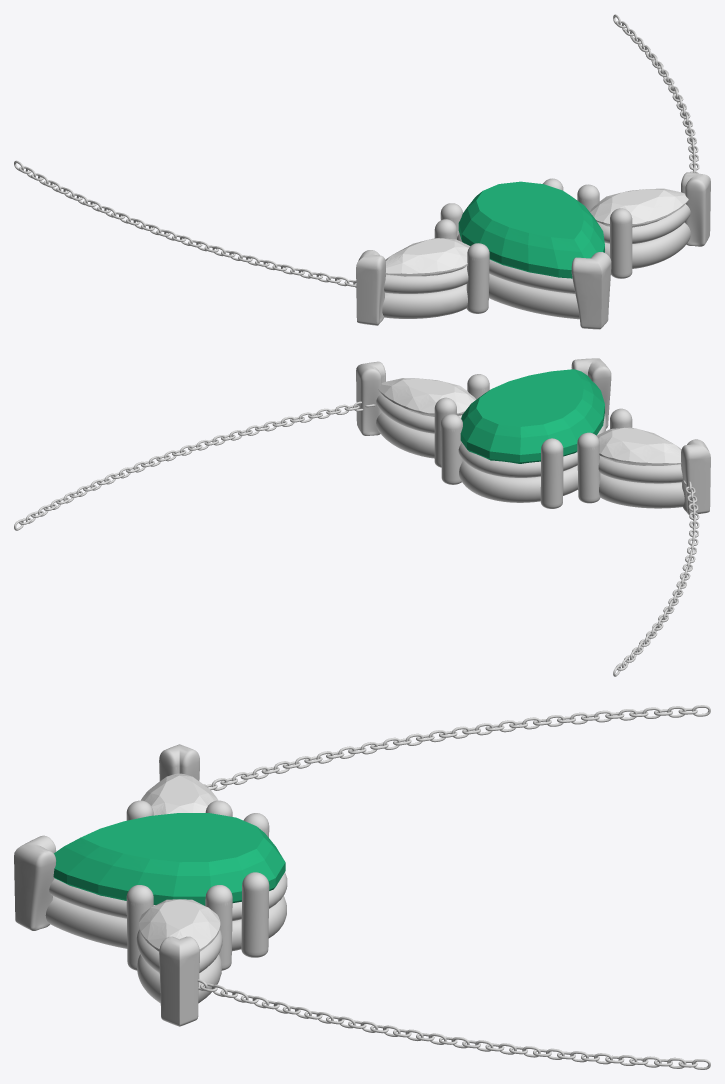
The model's file is Dan3stonePendantPTnew.glb.
3 views of the same model, one above another, from view 1: azimuth 30°, elevation 25°; view 2: azimuth 150°, elevation 25°; view 3: azimuth 270°, elevation 25° (orthographic). The views are drawn at different scales.
Parts seen in each view (by area): view 1: Dan PT for 3d model, Dan tourmaline for 3d model, Dan dia for 3d model.001, Dan dia for 3d model; view 2: Dan PT for 3d model, Dan tourmaline for 3d model, Dan dia for 3d model.001, Dan dia for 3d model; view 3: Dan PT for 3d model, Dan tourmaline for 3d model, Dan dia for 3d model, Dan dia for 3d model.001.
Boxes of the visible parts, x1=… form: Dan PT for 3d model: x1=14, y1=14, x2=710, y2=329; Dan tourmaline for 3d model: x1=458, y1=181, x2=604, y2=278; Dan dia for 3d model.001: x1=385, y1=238, x2=470, y2=276; Dan dia for 3d model: x1=590, y1=188, x2=688, y2=227; Dan PT for 3d model: x1=14, y1=358, x2=710, y2=676; Dan tourmaline for 3d model: x1=460, y1=369, x2=604, y2=463; Dan dia for 3d model.001: x1=597, y1=427, x2=681, y2=465; Dan dia for 3d model: x1=378, y1=378, x2=475, y2=416; Dan PT for 3d model: x1=14, y1=705, x2=710, y2=1069; Dan tourmaline for 3d model: x1=53, y1=813, x2=285, y2=905; Dan dia for 3d model: x1=139, y1=899, x2=220, y2=951; Dan dia for 3d model.001: x1=141, y1=773, x2=218, y2=815.
Bounding box in the file's own units: 31.19 × 3.84 × 25.68.
